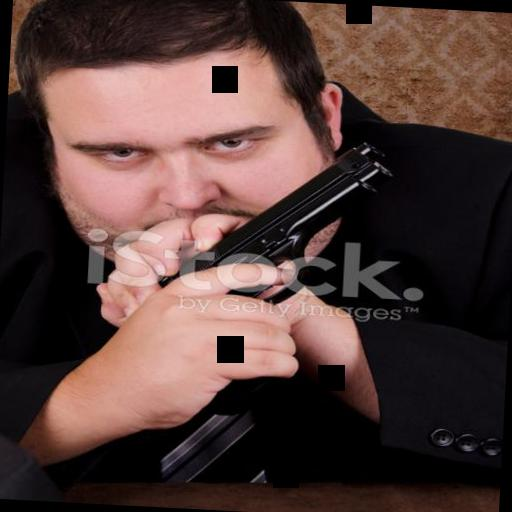Handgun: (140, 126, 414, 428)
